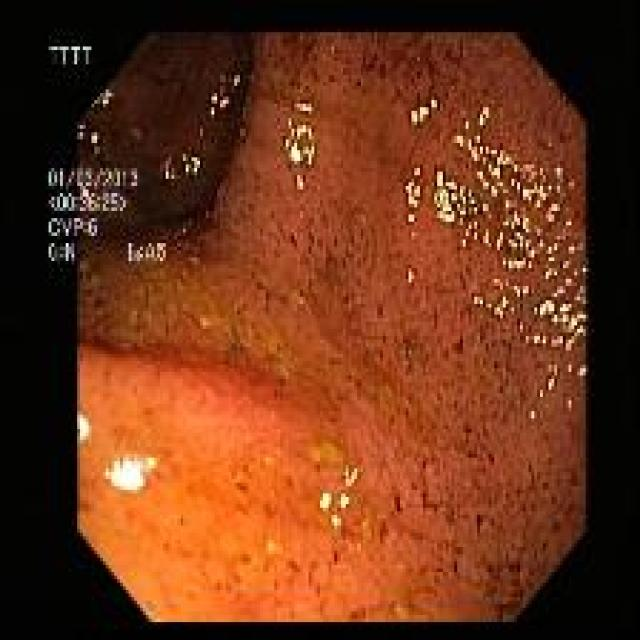ulcerative-colitis: (91, 38, 586, 620)
